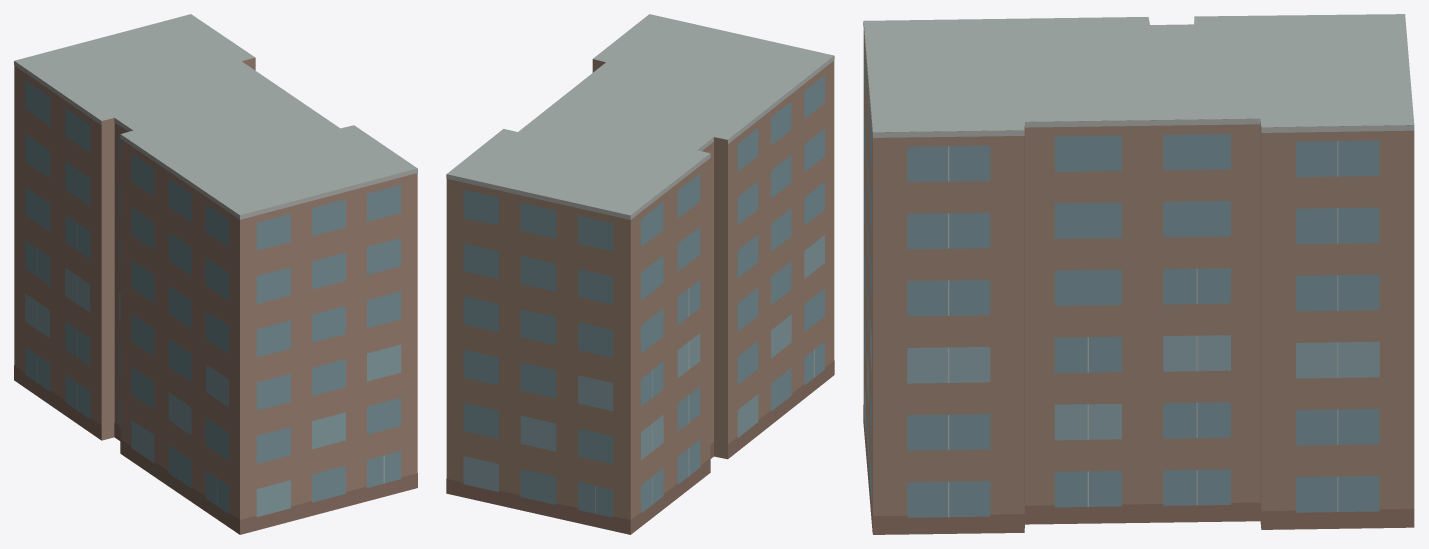
File: survey-upis-32932688.glb
3 renders of one model, left to right at view 1: azimuth 30°, elevation 25°; view 2: azimuth 150°, elevation 25°; view 3: azimuth 270°, elevation 25°, orthographic. The views are drawn at different scales.
Parts seen in each view (by area): view 1: survey-upis-32932688.tmp; view 2: survey-upis-32932688.tmp; view 3: survey-upis-32932688.tmp.
Part boxes in pixels (x1,y1,x2,y2): survey-upis-32932688.tmp: (14, 14, 417, 534); survey-upis-32932688.tmp: (446, 14, 834, 534); survey-upis-32932688.tmp: (863, 14, 1414, 534).
Size of the model in its own units: 10.91 by 17.3 by 21.46.
